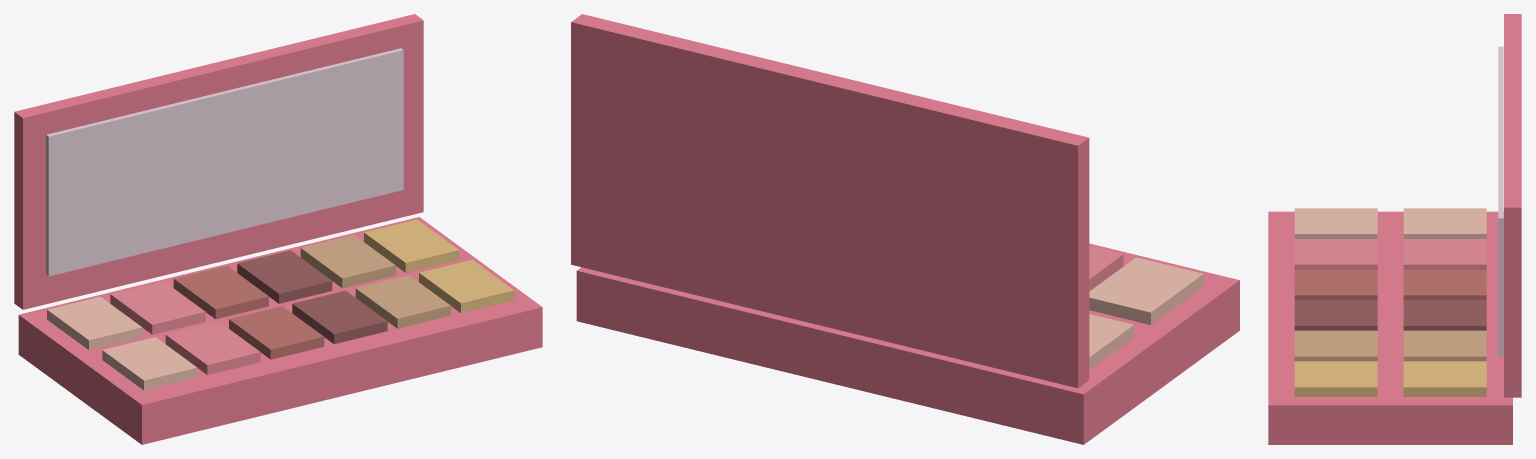
Rendered from TRD-01-09.glb.
The picture shows the model from 3 angles, left to right: view 1: azimuth 30°, elevation 25°; view 2: azimuth 150°, elevation 25°; view 3: azimuth 270°, elevation 25°; orthographic projection. The views are drawn at different scales.
Parts seen in each view (by area): view 1: TRD-01-09; view 2: TRD-01-09; view 3: TRD-01-09.
Boxes of the visible parts, box(x1,y1,x2,y2) form: TRD-01-09: box(14, 14, 542, 444); TRD-01-09: box(571, 14, 1239, 444); TRD-01-09: box(1268, 14, 1521, 444).
Bounding box in the file's own units: 1.05 × 0.6 × 0.58.
